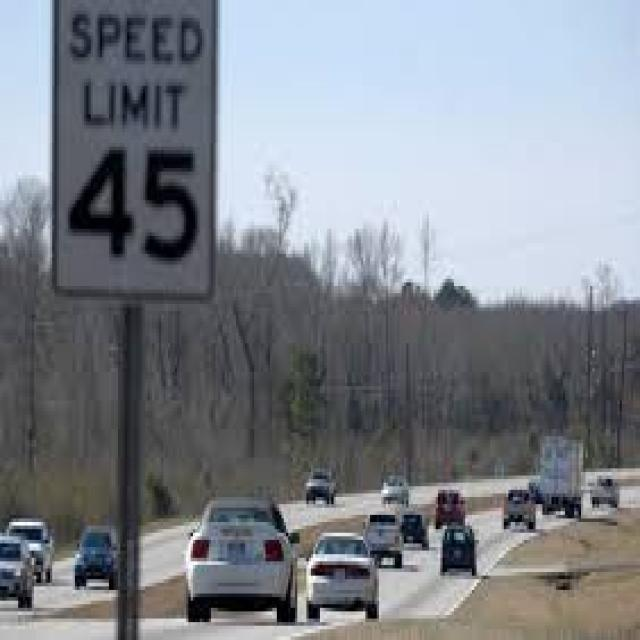speedLimit45: (50, 3, 216, 296)
